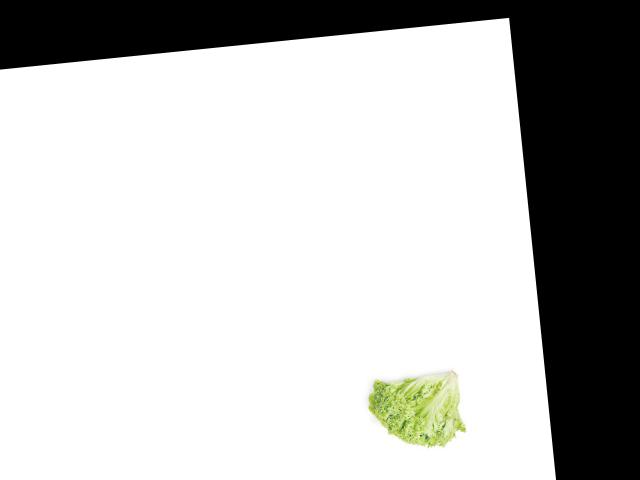lettuce: (359, 361, 471, 459)
